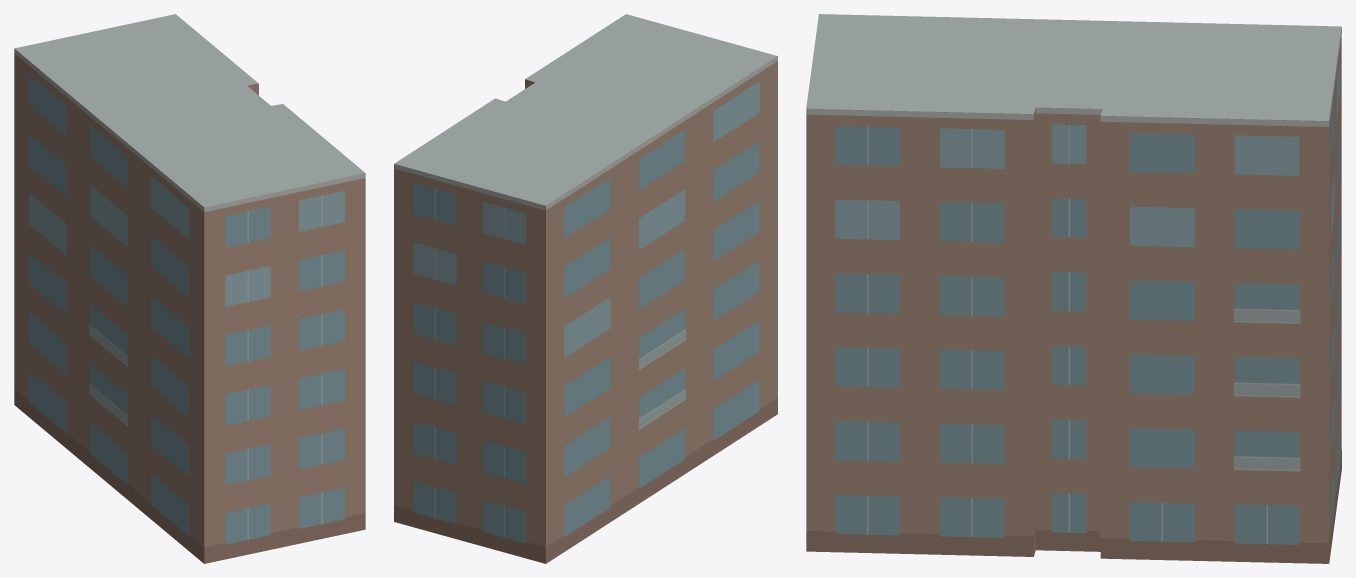
The model's file is survey-upis-33037148.glb.
The picture shows the model from 3 angles, left to right: view 1: azimuth 30°, elevation 25°; view 2: azimuth 150°, elevation 25°; view 3: azimuth 270°, elevation 25°; orthographic projection. The views are drawn at different scales.
Parts seen in each view (by area): view 1: survey-upis-33037148.tmp; view 2: survey-upis-33037148.tmp; view 3: survey-upis-33037148.tmp.
Boxes of the visible parts, x1,y1,x2,y2 form: survey-upis-33037148.tmp: (14,14,365,563); survey-upis-33037148.tmp: (394,14,777,563); survey-upis-33037148.tmp: (806,14,1341,563).
Bounding box in the file's own units: 9.5 × 18.3 × 20.08.
